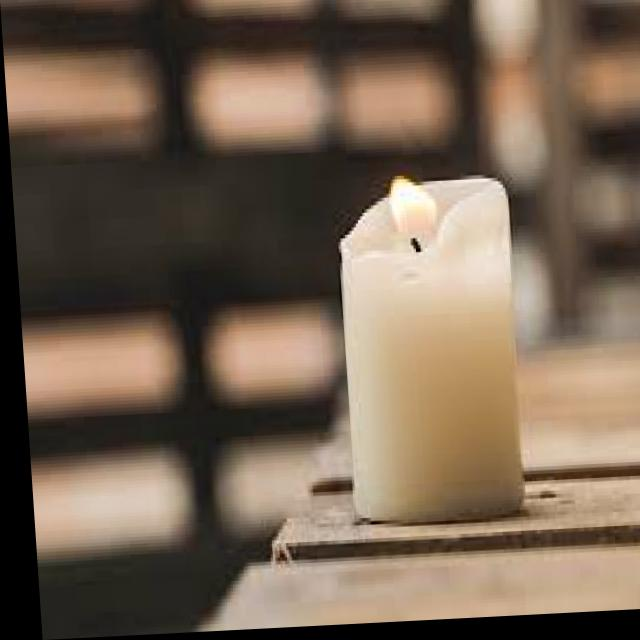fire: (373, 165, 440, 258)
